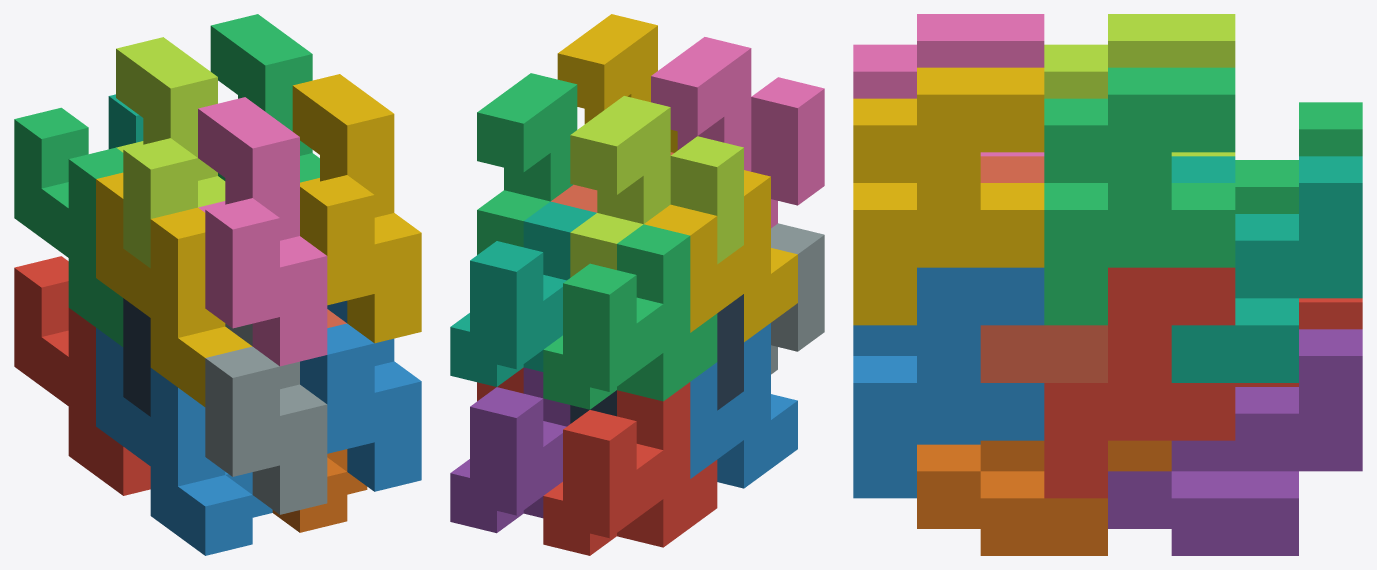
The model's file is tiling.obj.
3 renders of one model, left to right at view 1: azimuth 30°, elevation 25°; view 2: azimuth 150°, elevation 25°; view 3: azimuth 270°, elevation 25°, orthographic. The views are drawn at different scales.
Parts seen in each view (by area): view 1: copy_2_domain_4, copy_2_domain_8, copy_1_domain_2, copy_2_domain_2, copy_1_domain_4, copy_2_domain_3, copy_1_domain_3, copy_2_domain_6, copy_1_domain_1, copy_2_domain_7, copy_2_domain_1, copy_1_domain_6 (+1 smaller); view 2: copy_1_domain_3, copy_1_domain_1, copy_2_domain_3, copy_2_domain_4, copy_1_domain_7, copy_1_domain_5, copy_2_domain_7, copy_1_domain_4, copy_1_domain_2, copy_2_domain_8, copy_2_domain_2, copy_2_domain_1 (+2 smaller); view 3: copy_2_domain_7, copy_2_domain_8, copy_1_domain_5, copy_2_domain_6, copy_2_domain_5, copy_1_domain_7, copy_1_domain_6, copy_2_domain_3, copy_2_domain_4, copy_1_domain_8, copy_1_domain_3, copy_1_domain_1.
Part boxes in pixels (x1,y1,x2,y2): copy_2_domain_4: [198, 97, 327, 366]; copy_2_domain_8: [292, 74, 421, 343]; copy_1_domain_2: [96, 328, 272, 555]; copy_2_domain_2: [205, 323, 327, 514]; copy_1_domain_4: [96, 172, 252, 406]; copy_2_domain_3: [116, 37, 225, 268]; copy_1_domain_3: [14, 107, 123, 346]; copy_2_domain_6: [300, 300, 421, 491]; copy_1_domain_1: [14, 256, 150, 495]; copy_2_domain_7: [210, 14, 319, 182]; copy_2_domain_1: [123, 298, 150, 416]; copy_1_domain_6: [272, 449, 367, 532]; copy_1_domain_3: [543, 224, 717, 409]; copy_1_domain_1: [543, 382, 717, 555]; copy_2_domain_3: [570, 96, 743, 277]; copy_2_domain_4: [651, 37, 824, 228]; copy_1_domain_7: [450, 201, 596, 386]; copy_1_domain_5: [450, 367, 570, 533]; copy_2_domain_7: [477, 73, 577, 254]; copy_1_domain_4: [644, 170, 797, 341]; copy_1_domain_2: [690, 323, 797, 488]; copy_2_domain_8: [557, 14, 677, 152]; copy_2_domain_2: [771, 223, 824, 374]; copy_2_domain_1: [570, 294, 743, 423]; copy_2_domain_7: [1044, 67, 1235, 325]; copy_2_domain_8: [853, 67, 1044, 325]; copy_1_domain_5: [1108, 329, 1362, 555]; copy_2_domain_6: [853, 267, 1044, 498]; copy_2_domain_5: [1044, 267, 1235, 498]; copy_1_domain_7: [1171, 156, 1362, 382]; copy_1_domain_6: [917, 440, 1171, 555]; copy_2_domain_3: [1044, 14, 1235, 156]; copy_2_domain_4: [853, 14, 1044, 156]; copy_1_domain_8: [980, 156, 1107, 382]; copy_1_domain_3: [1235, 102, 1362, 213]; copy_1_domain_1: [1235, 298, 1362, 386].
Size of the model in its own units: 4 by 8 by 8.
